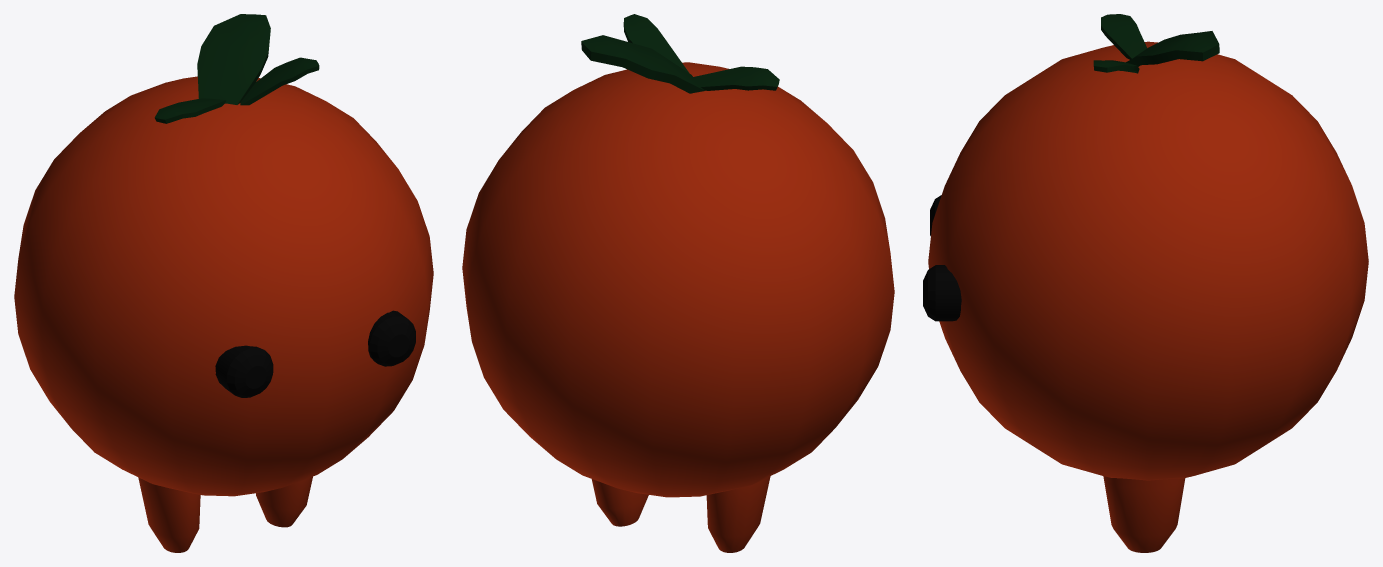
Rendered from Orange_01.FBX.
The picture shows the model from 3 angles, left to right: view 1: azimuth 30°, elevation 25°; view 2: azimuth 150°, elevation 25°; view 3: azimuth 270°, elevation 25°; orthographic projection. The views are drawn at different scales.
Visible parts, largest first — view 1: Orange_01; view 2: Orange_01; view 3: Orange_01.
Part boxes in pixels (left/top/right/bottom): Orange_01: left=14, top=14, right=433, bottom=552; Orange_01: left=462, top=14, right=894, bottom=552; Orange_01: left=923, top=14, right=1368, bottom=552.
Bounding box in the file's own units: 48.99 × 61.83 × 49.55.
